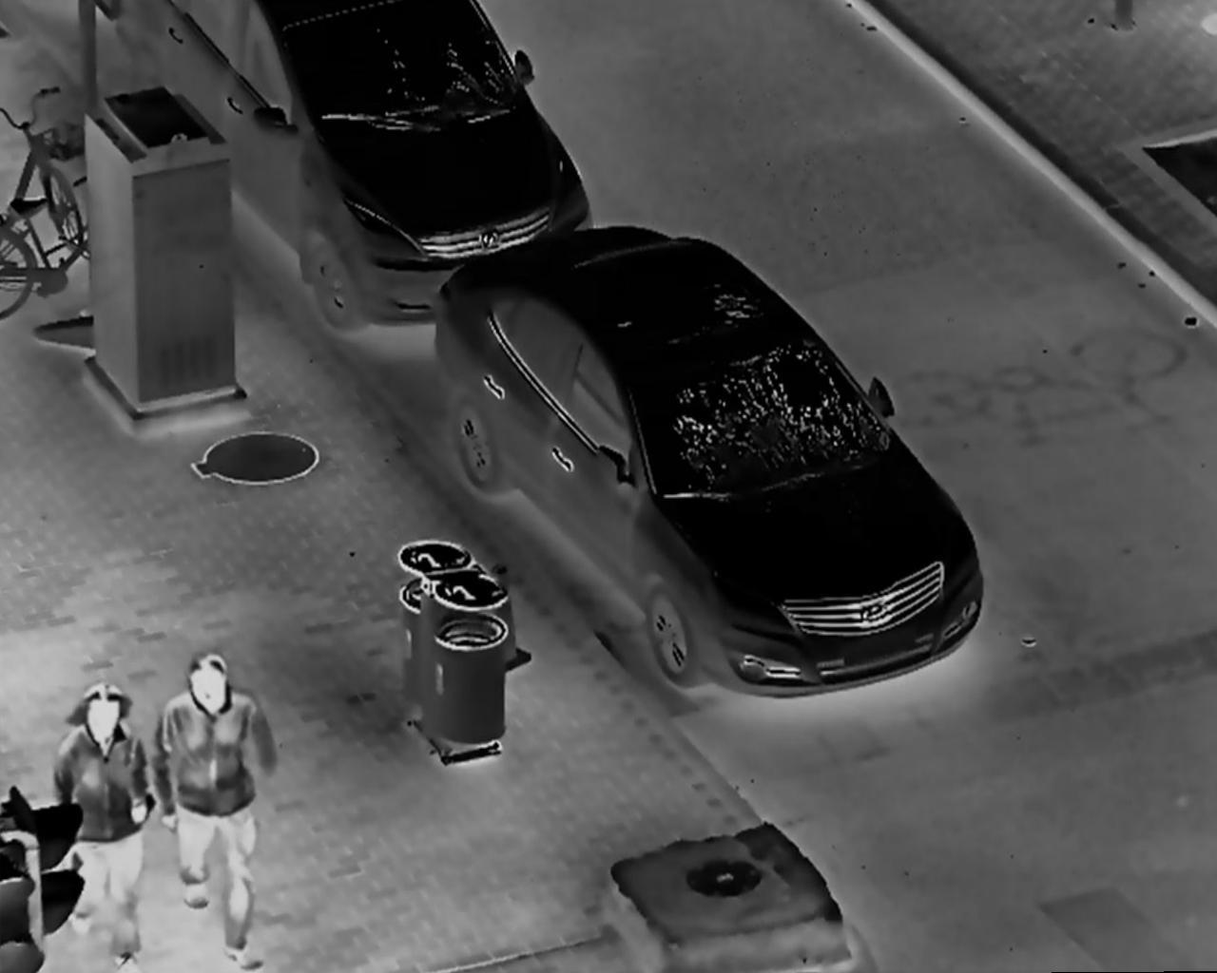person: (146, 652, 283, 973), (48, 678, 159, 973)
